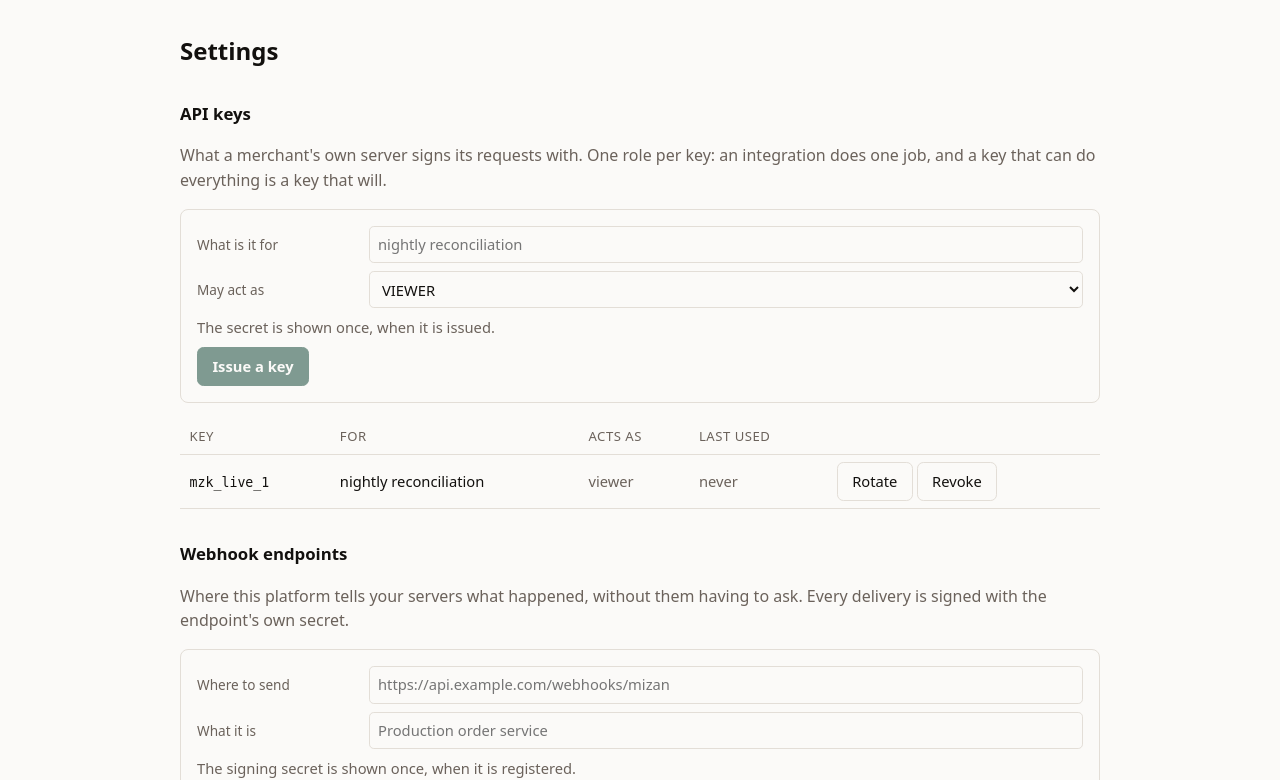
Test case: keys › takes a deliberate confirmation to hide a secret
This screenshot has width=1280, height=780.
Check: the text "nightly reconciliation" is shown, box left=330, top=454, right=579, bottom=509
Type "a new one" into the field labelled "What is it for".
click(726, 245); type("a new one")  # box left=369, top=226, right=1083, bottom=263
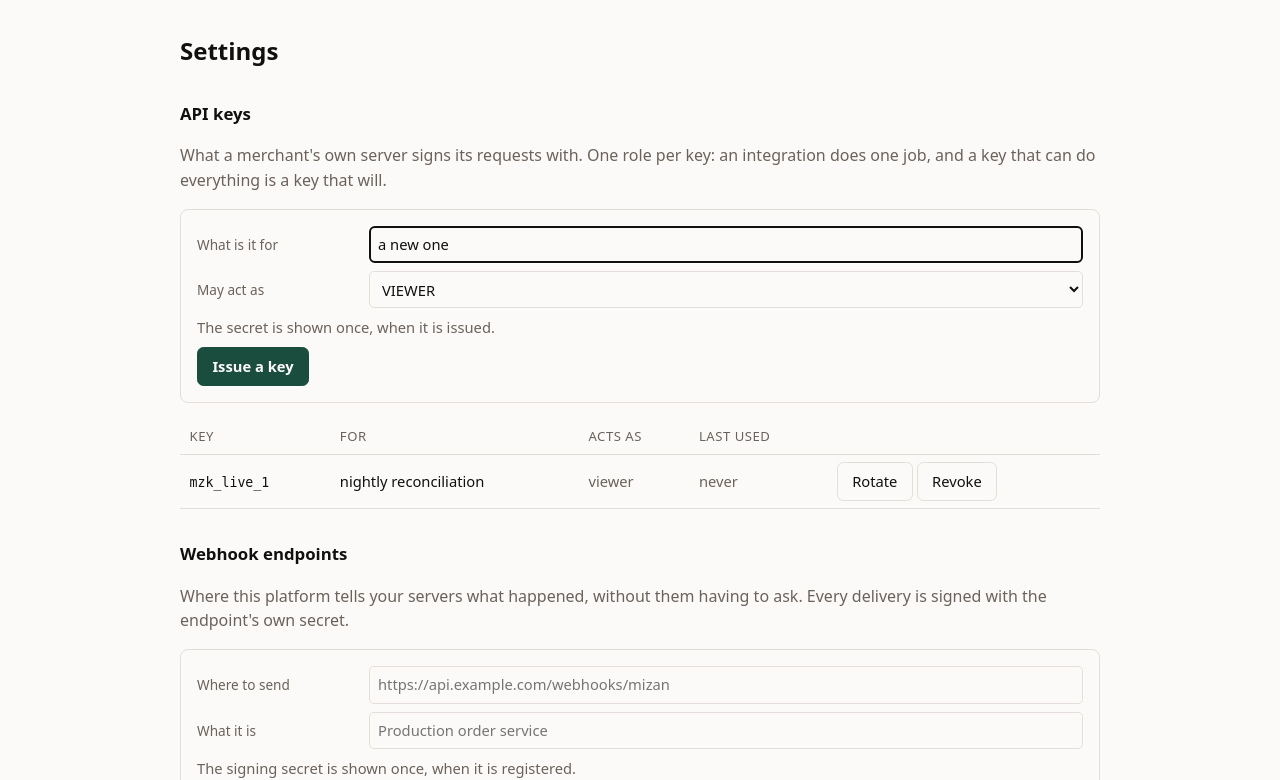
Click the button "Issue a key".
click(253, 367)  # box left=197, top=347, right=309, bottom=386
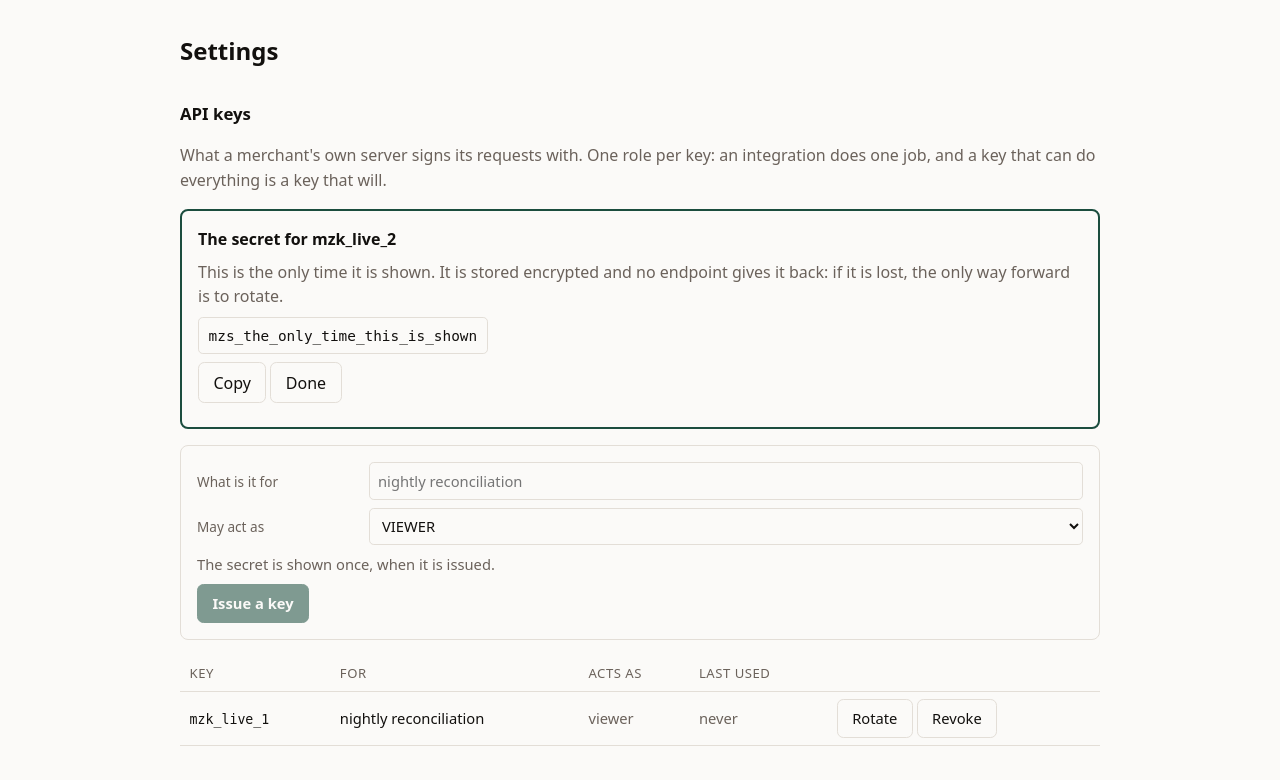
Check: the text "mzs_the_only_time_this_is_shown" is shown, box left=198, top=317, right=488, bottom=354
Click the button "Done".
click(306, 383)  # box left=270, top=362, right=342, bottom=404
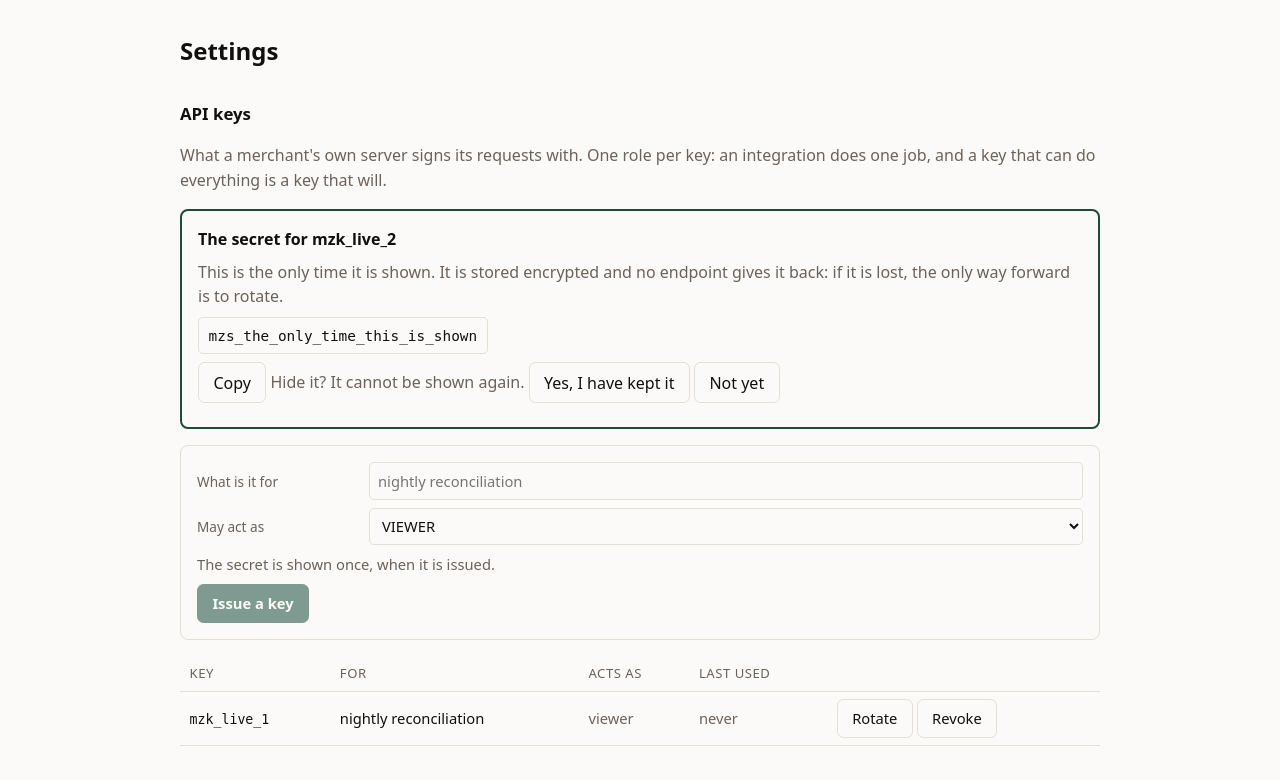
Check: the text "mzs_the_only_time_this_is_shown" is shown, box left=198, top=317, right=488, bottom=354
Click the button "Yes, I have kept it".
click(609, 383)  # box left=529, top=362, right=690, bottom=404
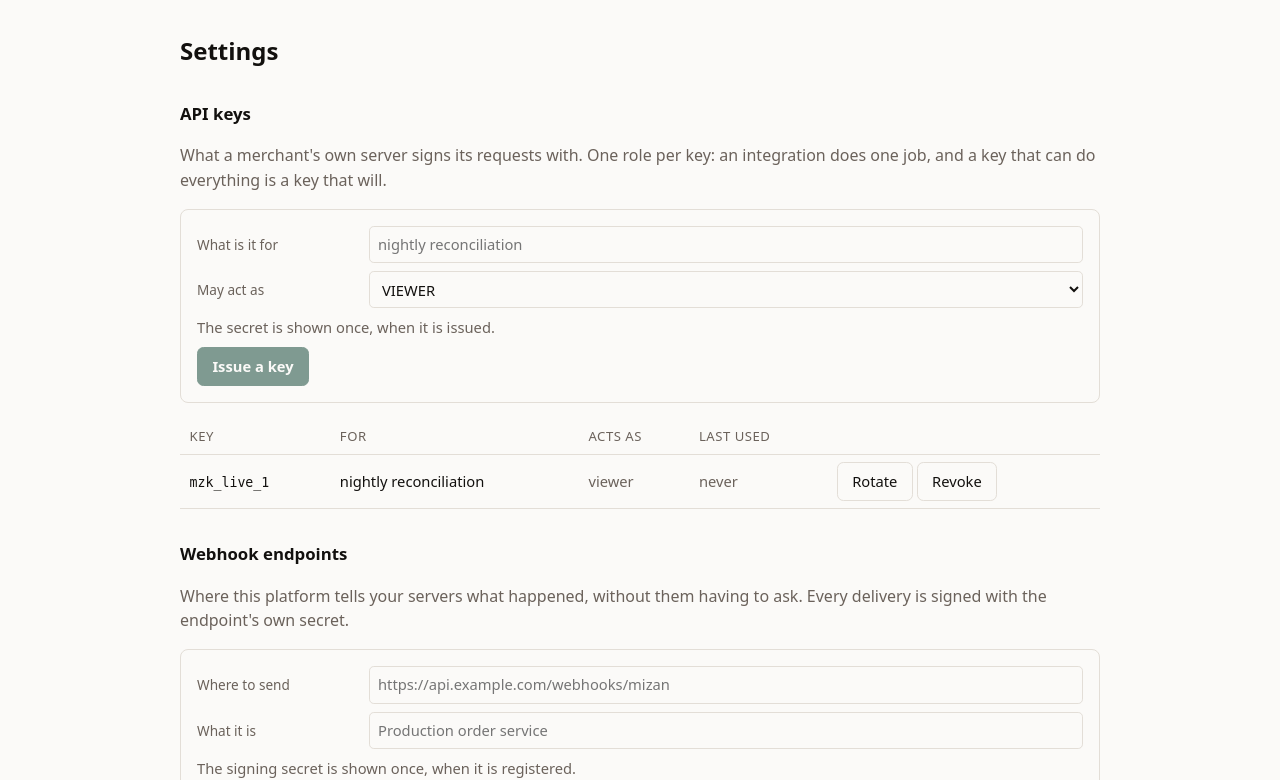
Check: the text "mzs_the_only_time_this_is_shown" is gone
